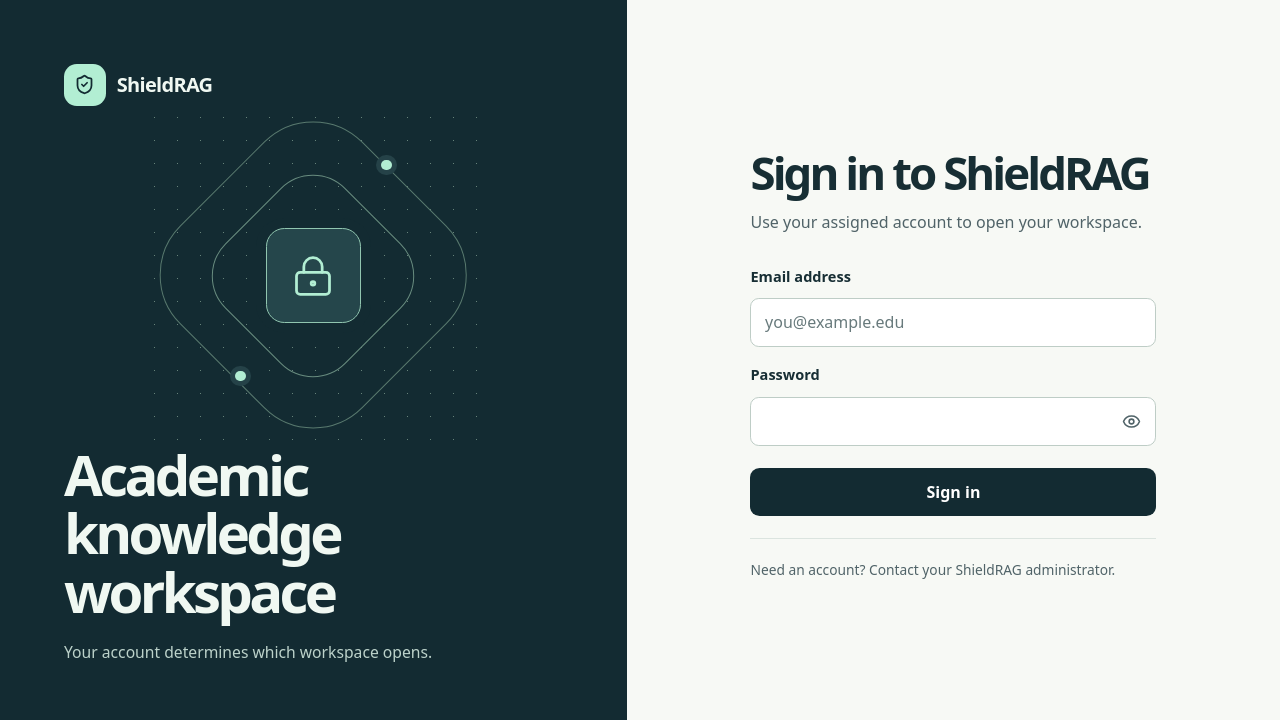
login and routing › signs in once, waits for the backend profile, and routes to the trusted role
The image size is (1280, 720).
Later steps or results of the test are not shown.
Expected: the heading "Sign in to ShieldRAG" is shown, top-left (750, 147), bottom-right (1156, 198)
Step 1. Type "student@example.test" into the field labelled "Email address" → {"x": 954, "y": 322}, box top-left (750, 298), bottom-right (1156, 347)
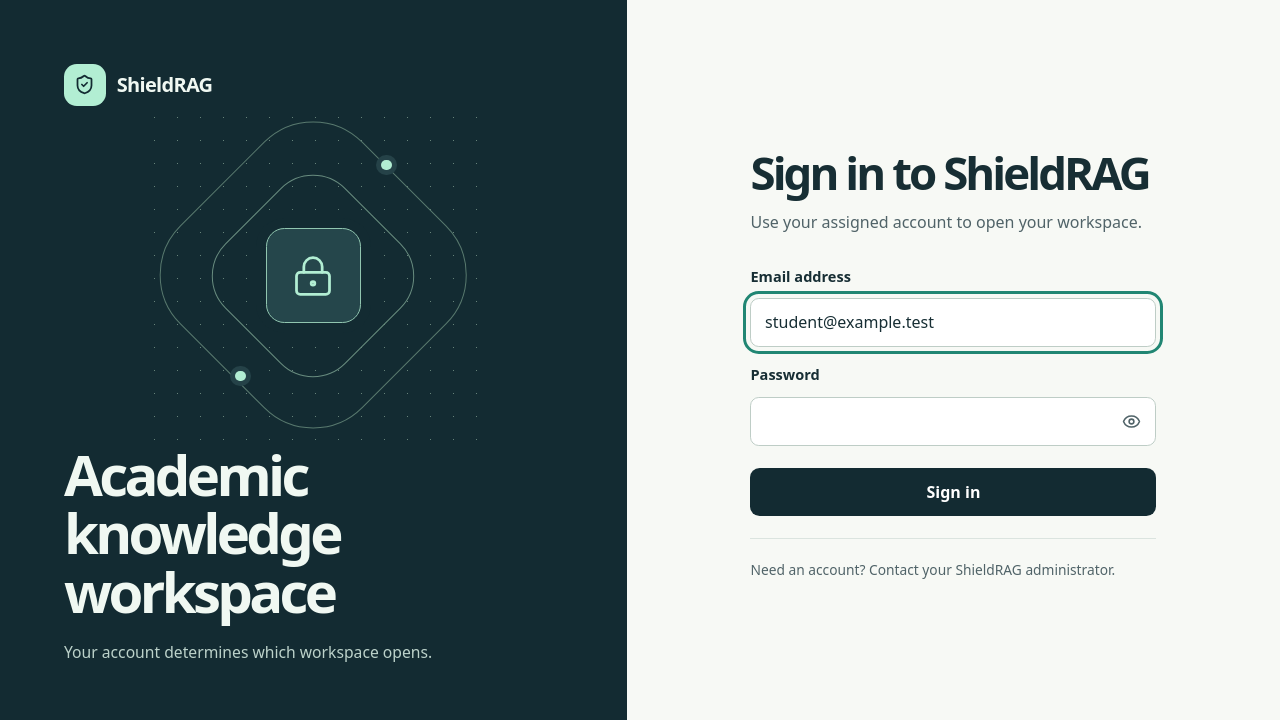
Step 2. Type "synthetic-password" into the password field labelled "Password" → {"x": 954, "y": 421}, box top-left (750, 397), bottom-right (1156, 446)
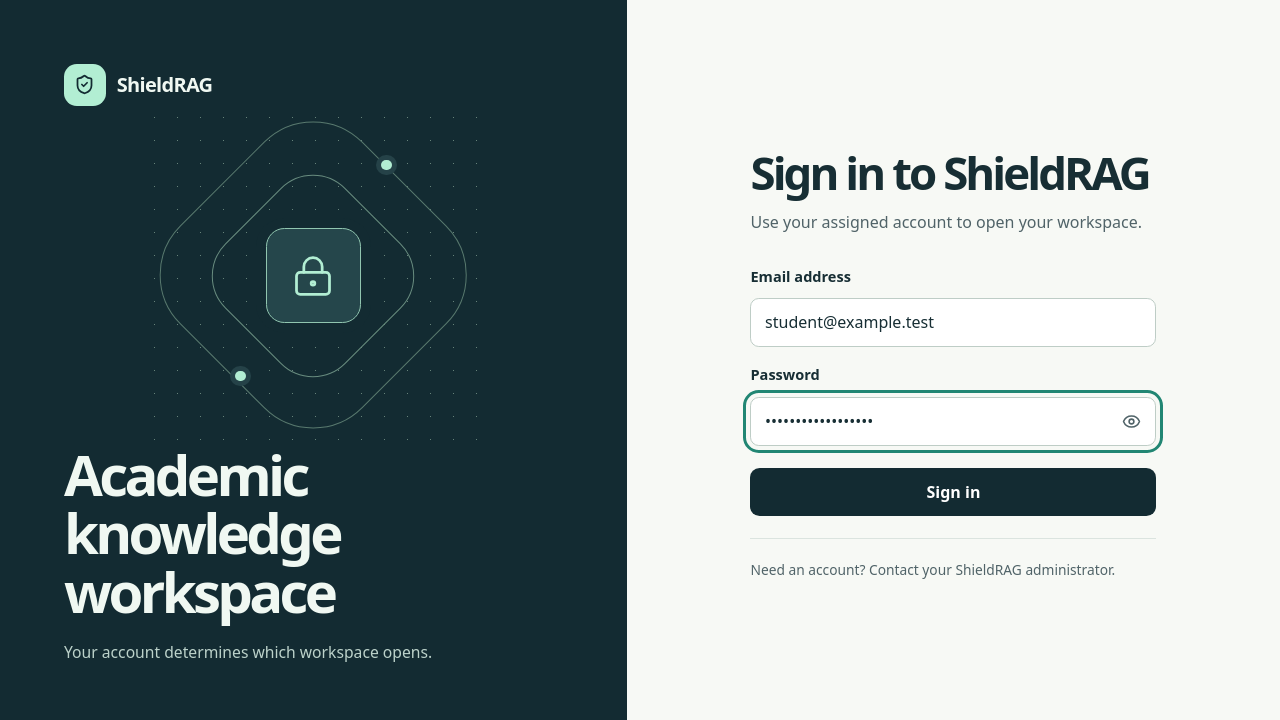
Step 3. Double-click the button "Sign in" → {"x": 954, "y": 492}, box top-left (750, 468), bottom-right (1156, 516)
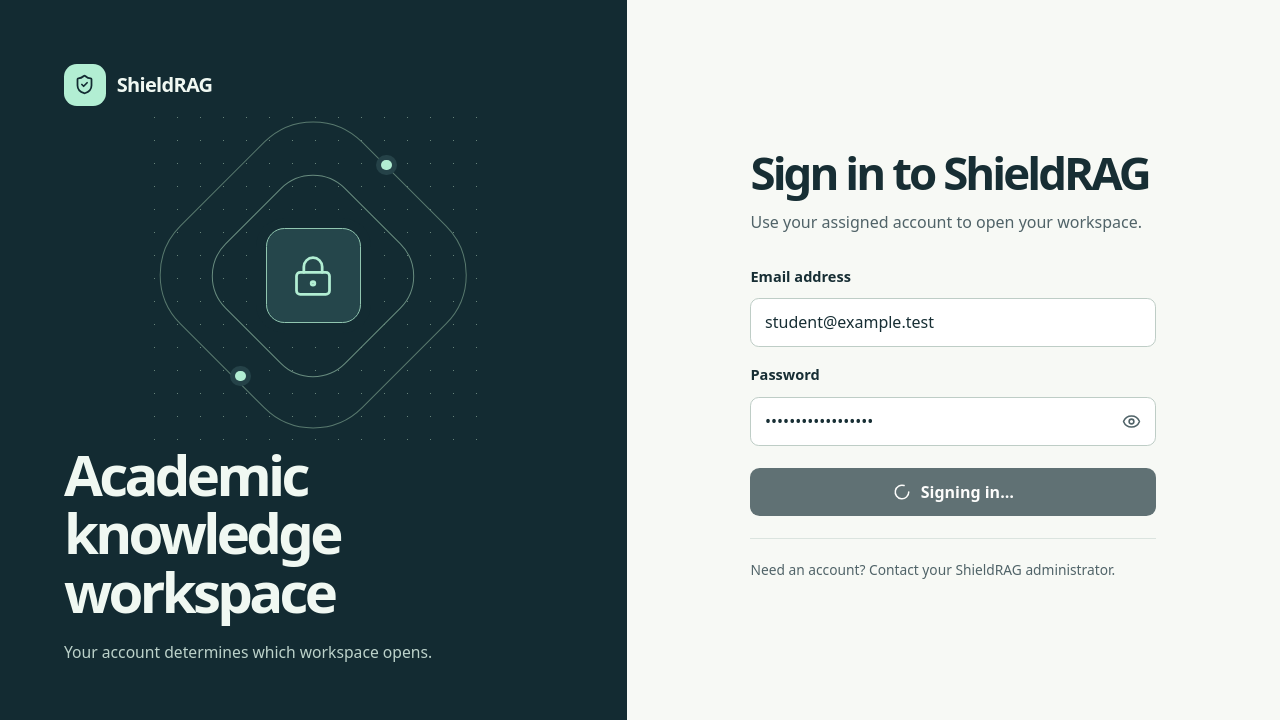
Now the button "Signing in…" is disabled, box top-left (750, 468), bottom-right (1156, 516)
